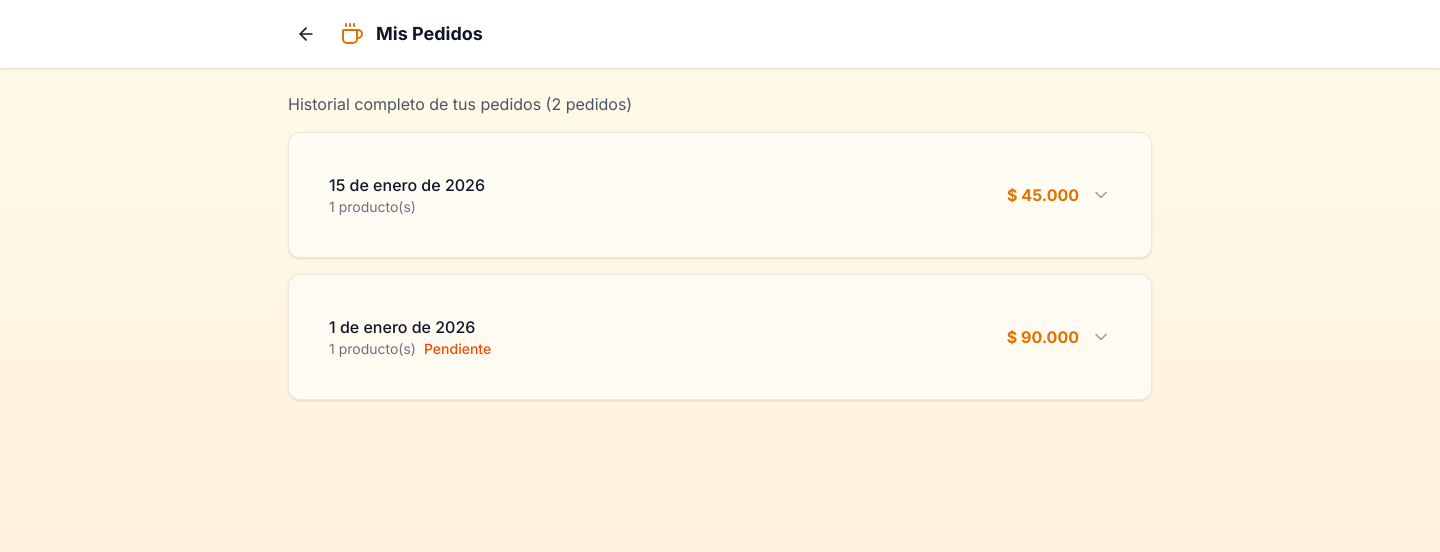
Test: PortalPedidosPage › Order Expansion › should collapse order when clicked again
Expected: the text "15 de enero de 2026" is shown, [329,173,485,197]
Note: Click to expand
Click the text "15 de enero de 2026 1 producto(s) $ 45.000": click(407, 185) [329,175,1111,215]
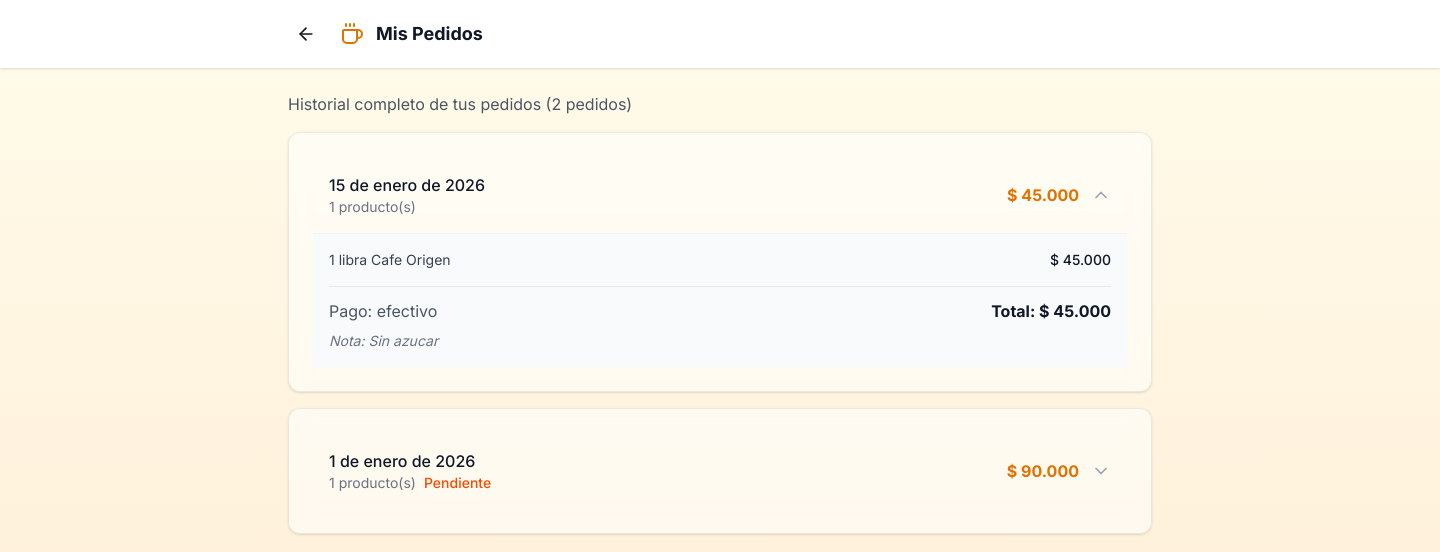
Result: the text "1 libra Cafe Origen" is shown at [329,250,451,270]
Note: Click again to collapse
Click the text "15 de enero de 2026 1 producto(s) $ 45.000": click(407, 185) [329,175,1111,215]
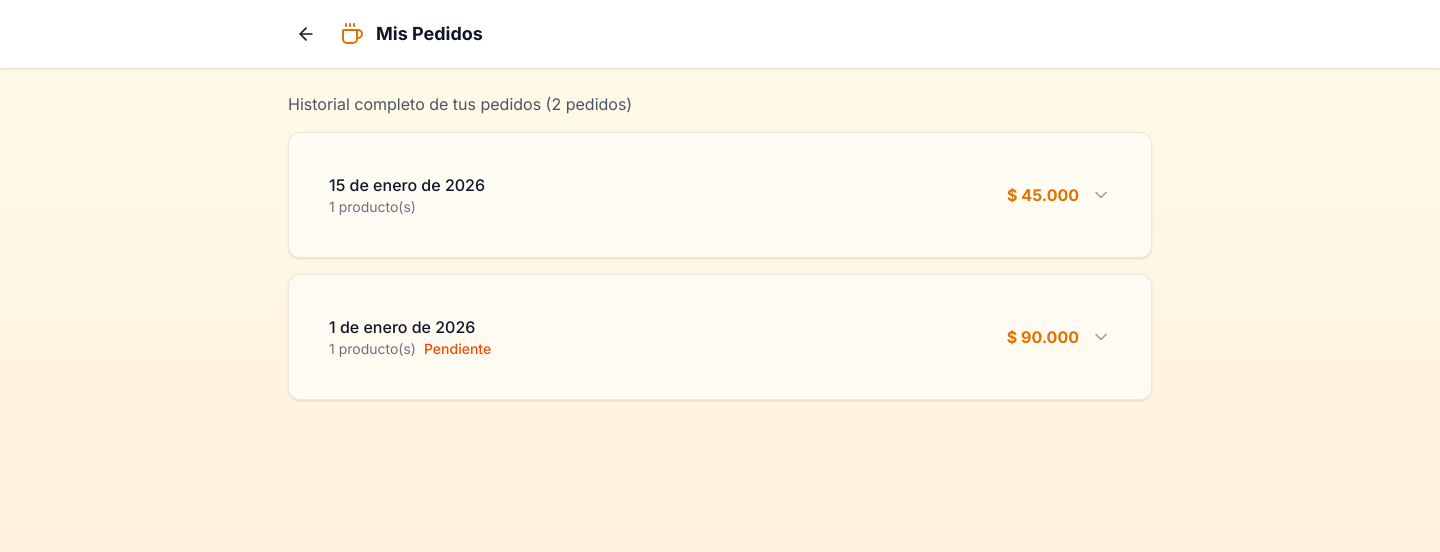
Result: the text "Pago: efectivo" is gone
